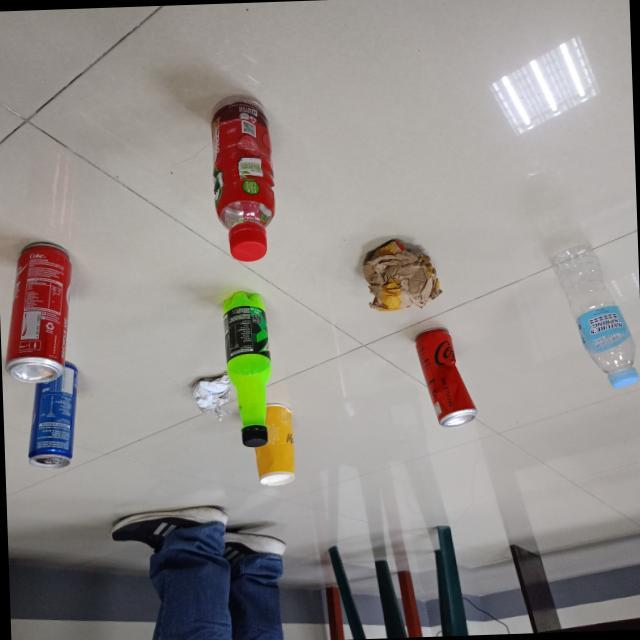recyclable waste: (544, 231, 640, 398), (200, 88, 286, 272), (0, 234, 83, 389), (213, 284, 281, 458), (17, 354, 90, 476), (408, 321, 483, 437), (355, 232, 448, 320), (246, 397, 302, 493), (186, 368, 241, 430)
